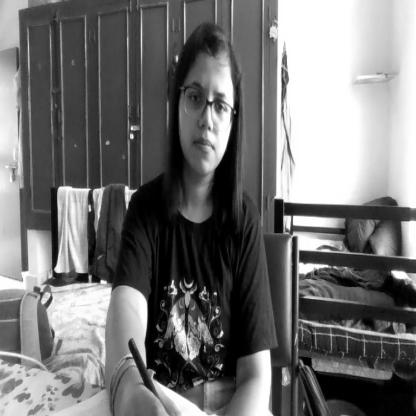Normal: (174, 28, 238, 188)
